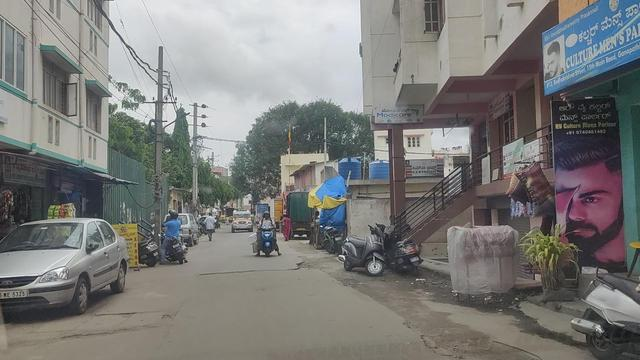LMV: (161, 209, 186, 264), (259, 212, 279, 257)
RoadDamages: (197, 259, 314, 280), (410, 326, 502, 352), (86, 308, 171, 334), (339, 274, 366, 292)
